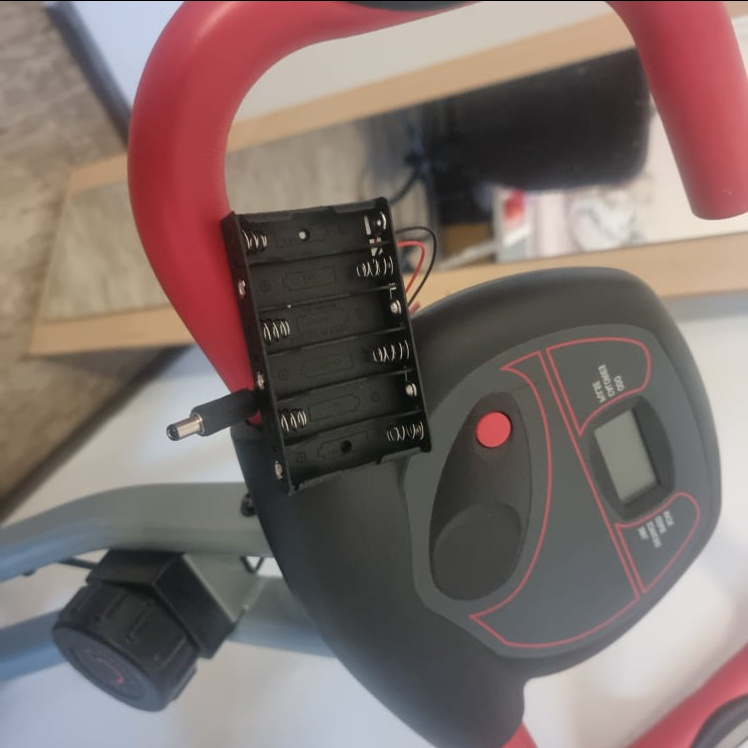BATTERY BOX: (219, 195, 433, 494)
